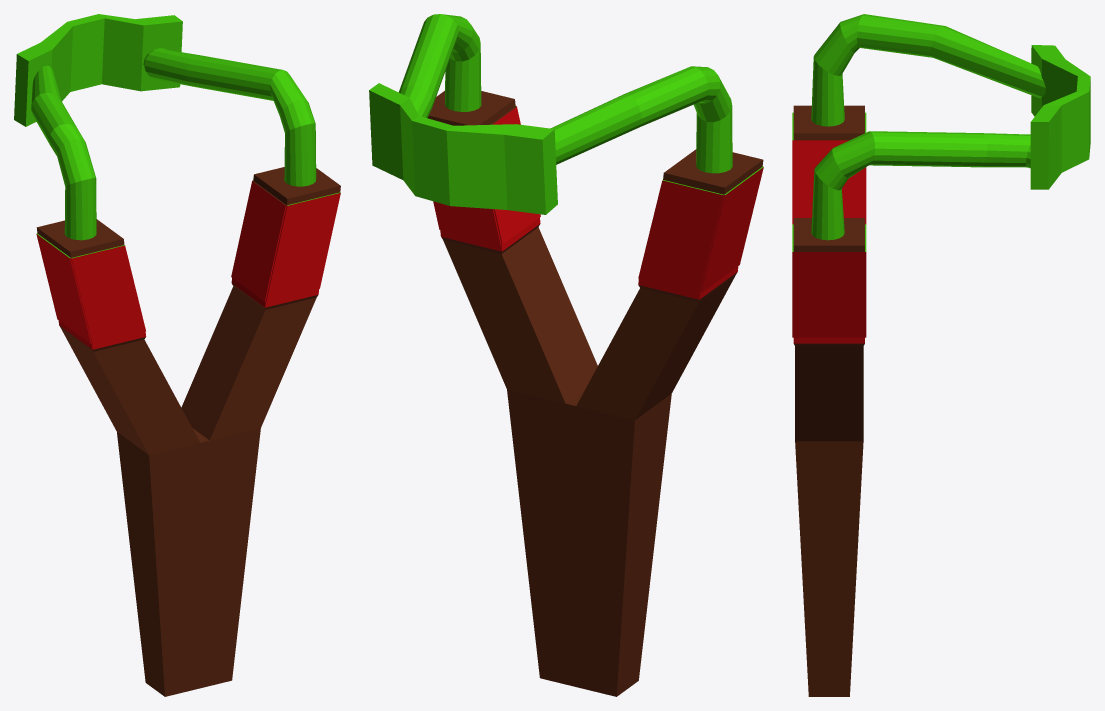
Rendered from meu_objeto.obj.
3 views of the same model, side by side, from view 1: azimuth 30°, elevation 25°; view 2: azimuth 150°, elevation 25°; view 3: azimuth 270°, elevation 25° (orthographic). The views are drawn at different scales.
Parts seen in each view (by area): view 1: Estilingue_Material.004_0, Estilingue_Material_0, Estilingue_Material.003_0; view 2: Estilingue_Material.004_0, Estilingue_Material_0, Estilingue_Material.003_0; view 3: Estilingue_Material_0, Estilingue_Material.004_0, Estilingue_Material.003_0.
Part boxes in pixels (x1,y1,x2,y2): Estilingue_Material.004_0: [36, 167, 340, 696]; Estilingue_Material_0: [14, 14, 340, 258]; Estilingue_Material.003_0: [36, 180, 340, 349]; Estilingue_Material.004_0: [428, 91, 763, 696]; Estilingue_Material_0: [369, 14, 763, 214]; Estilingue_Material.003_0: [433, 106, 763, 299]; Estilingue_Material_0: [792, 14, 1090, 251]; Estilingue_Material.004_0: [793, 105, 864, 696]; Estilingue_Material.003_0: [792, 140, 866, 343].
Bounding box in the file's own units: 0.1996 × 0.4032 × 0.1793.
